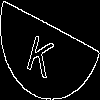K: (25, 25, 58, 79)
